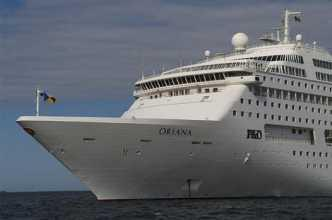youlun: (9, 26, 332, 202)
